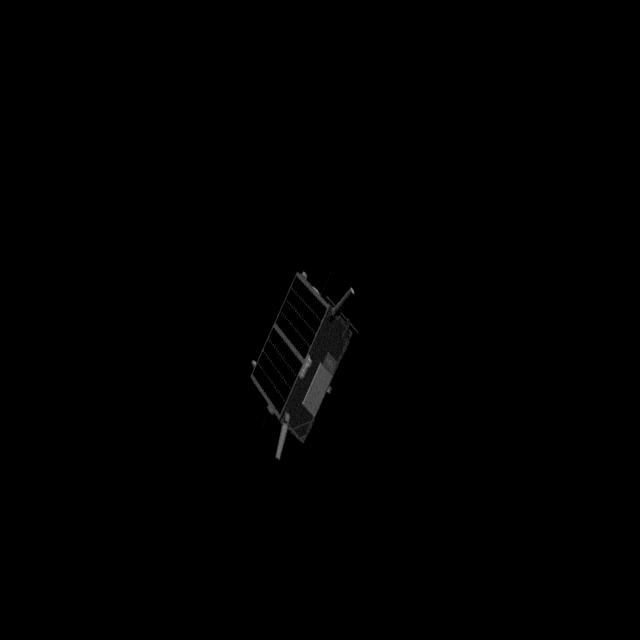satellite: (246, 254, 362, 466)
